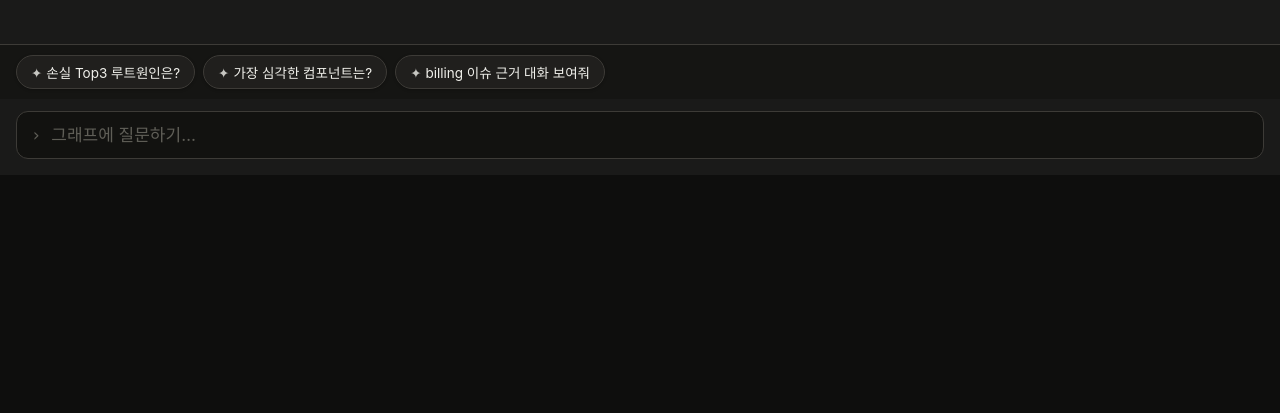
Test: ChatStream › should replace (not duplicate) the composer chips when a gate banner is shown
Type "우주의 끝은?" into the field with placeholder "그래프에 질문하기…" at (649, 135), box [49,124,1249,146]
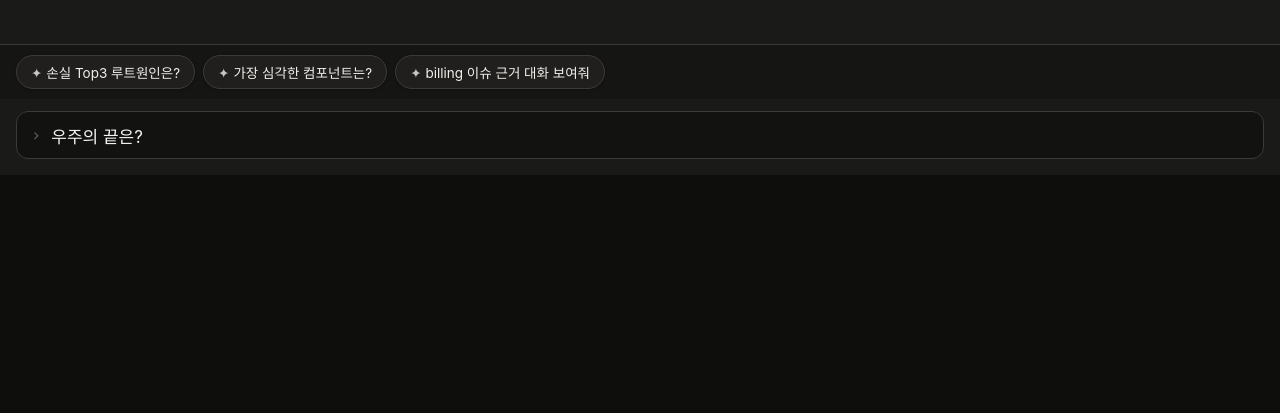
Submit the form with placeholder "질문", box [0,99,1279,175]
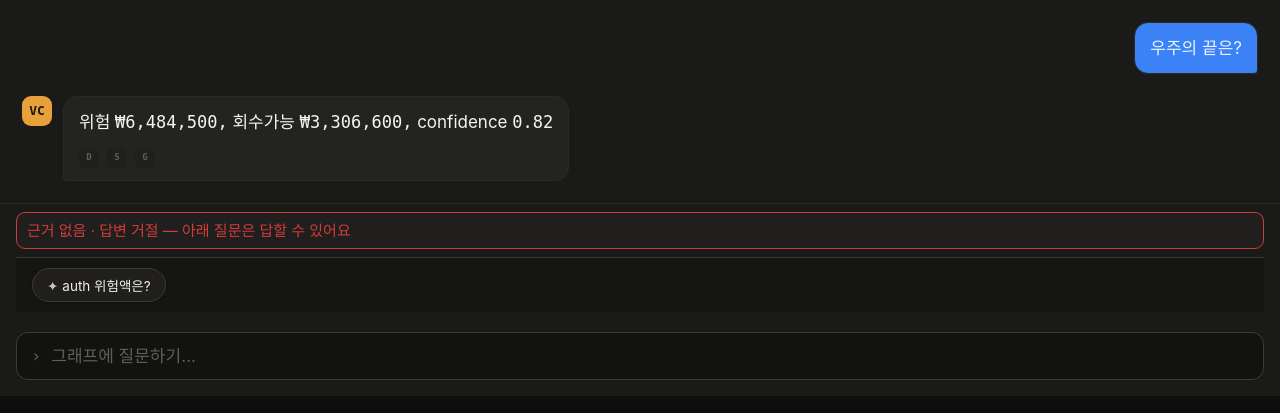
Check: the element with test id "confidence-gate" is shown, box [0,203,1279,320]
Check: the number of buttons "✦auth 위험액은?" is 1, box [32,268,166,302]
